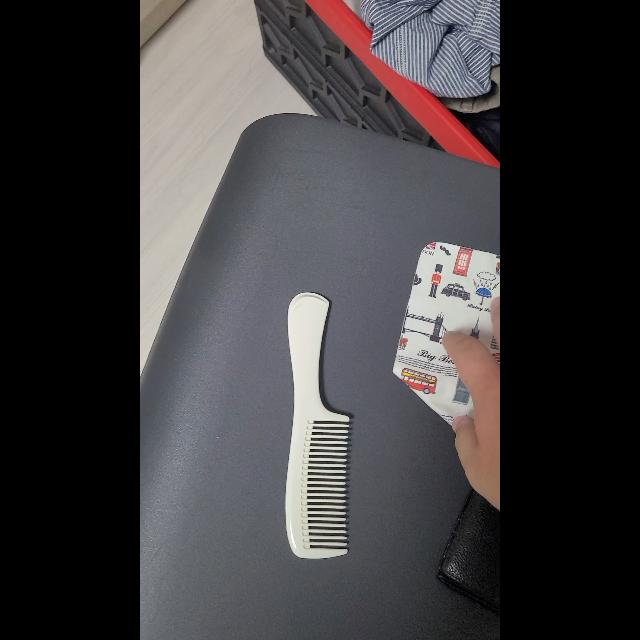COMB: (286, 293, 348, 559)
Glasses cleaning cloth: (392, 242, 500, 426)
WALLET: (436, 488, 499, 616)
